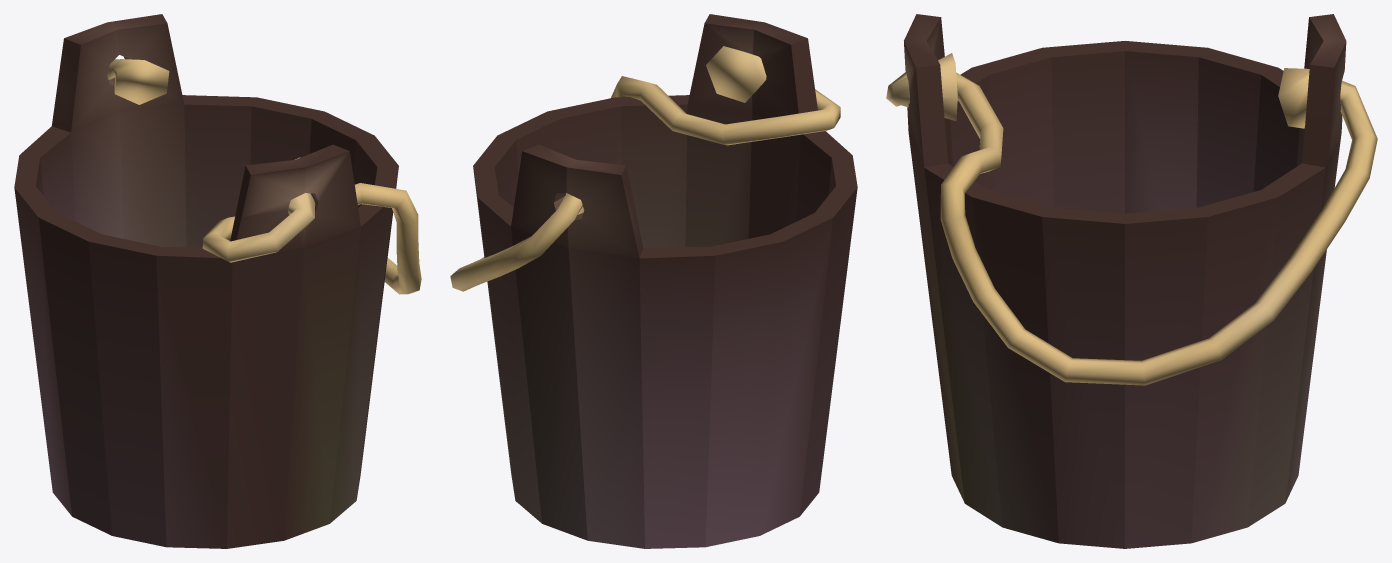
Rendered from bucket.glb.
3 views of the same model, side by side, from view 1: azimuth 30°, elevation 25°; view 2: azimuth 150°, elevation 25°; view 3: azimuth 270°, elevation 25° (orthographic). The views are drawn at different scales.
Visible parts, largest first — view 1: Bucket, Rope; view 2: Bucket, Rope; view 3: Bucket, Rope.
Part boxes in pixels (box(x1,y1,x2,y2)): Bucket: box(14, 14, 398, 548); Rope: box(107, 59, 421, 294); Bucket: box(473, 14, 857, 548); Rope: box(450, 46, 840, 291); Bucket: box(904, 14, 1346, 548); Rope: box(886, 53, 1377, 385).
Size of the model in its own units: 1.05 by 1.11 by 1.13.
